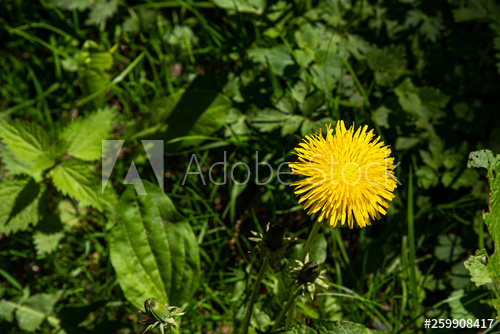dandelion: (293, 142, 391, 228)
